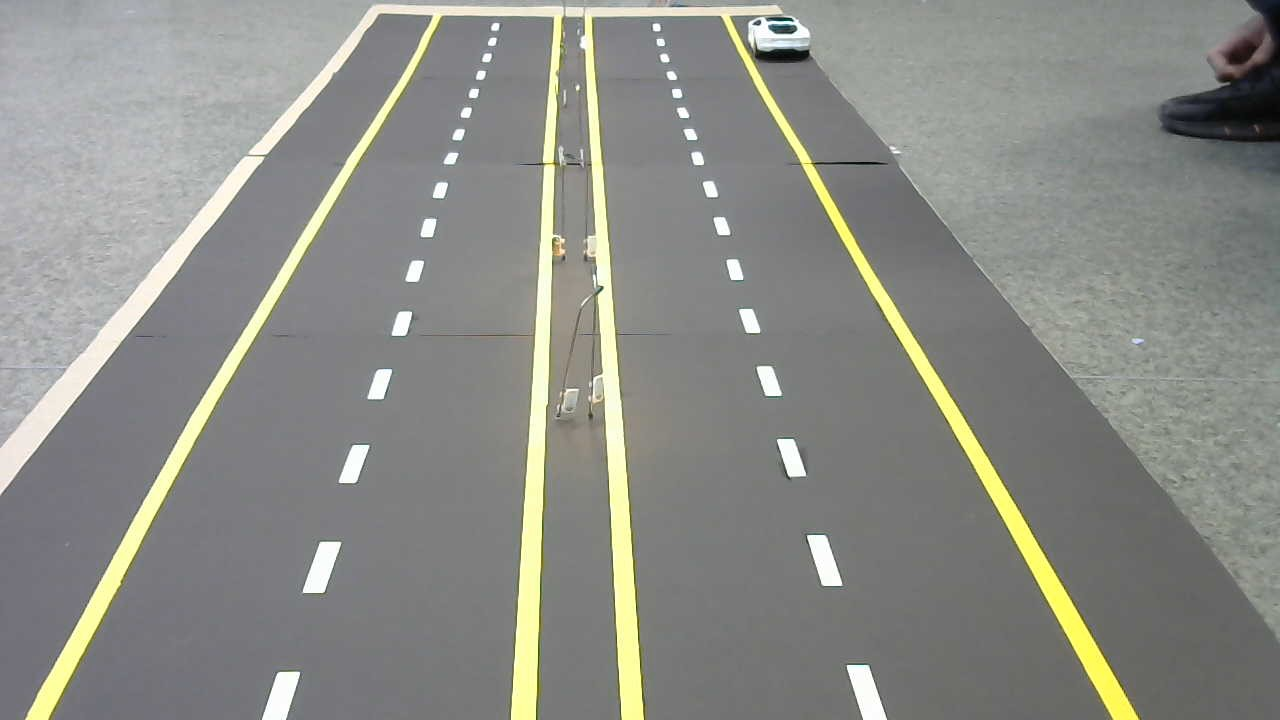back_car: (743, 14, 815, 62)
